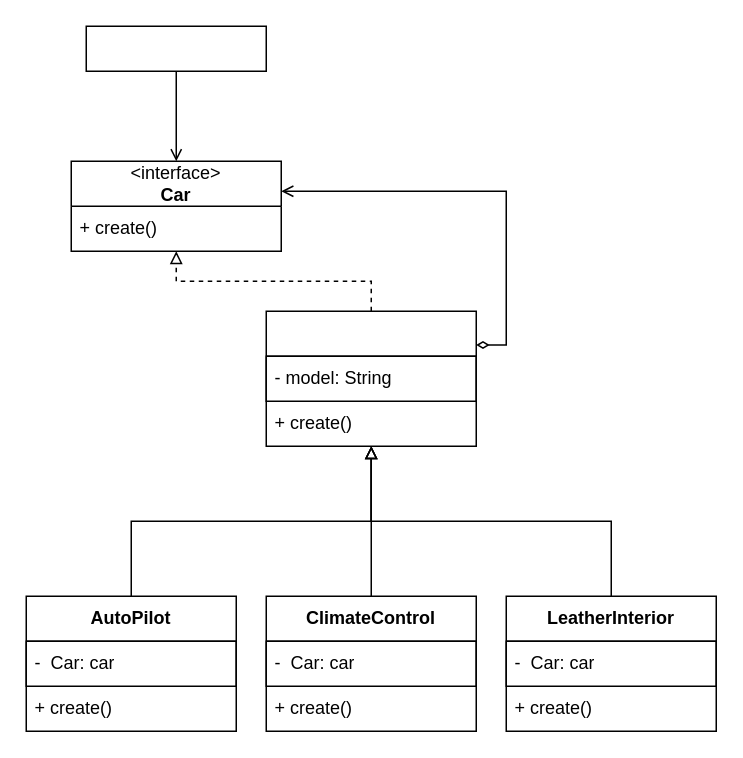
Image size: 743x758. Some labels were removed from this diagram. The shapes that lost their labels are listed below. From the top down, each one's box as (x1, y1, x2, y2) in pixels, then its label:
(85, 25, 266, 71): CarDealer
(265, 310, 476, 446): BasicCar
